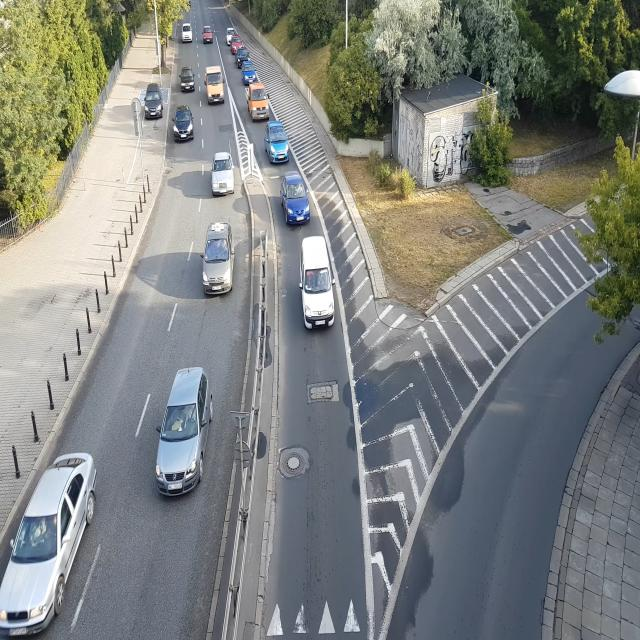car: (0, 450, 102, 640), (154, 368, 212, 495), (200, 218, 238, 304), (300, 240, 336, 328), (282, 175, 311, 226), (265, 121, 291, 167), (212, 152, 234, 192), (246, 82, 268, 120), (173, 105, 195, 142), (205, 67, 225, 104), (142, 88, 164, 120), (178, 64, 198, 93), (234, 47, 251, 63), (240, 67, 256, 82), (181, 24, 193, 43), (202, 26, 214, 44), (232, 34, 242, 50), (226, 28, 237, 42)
